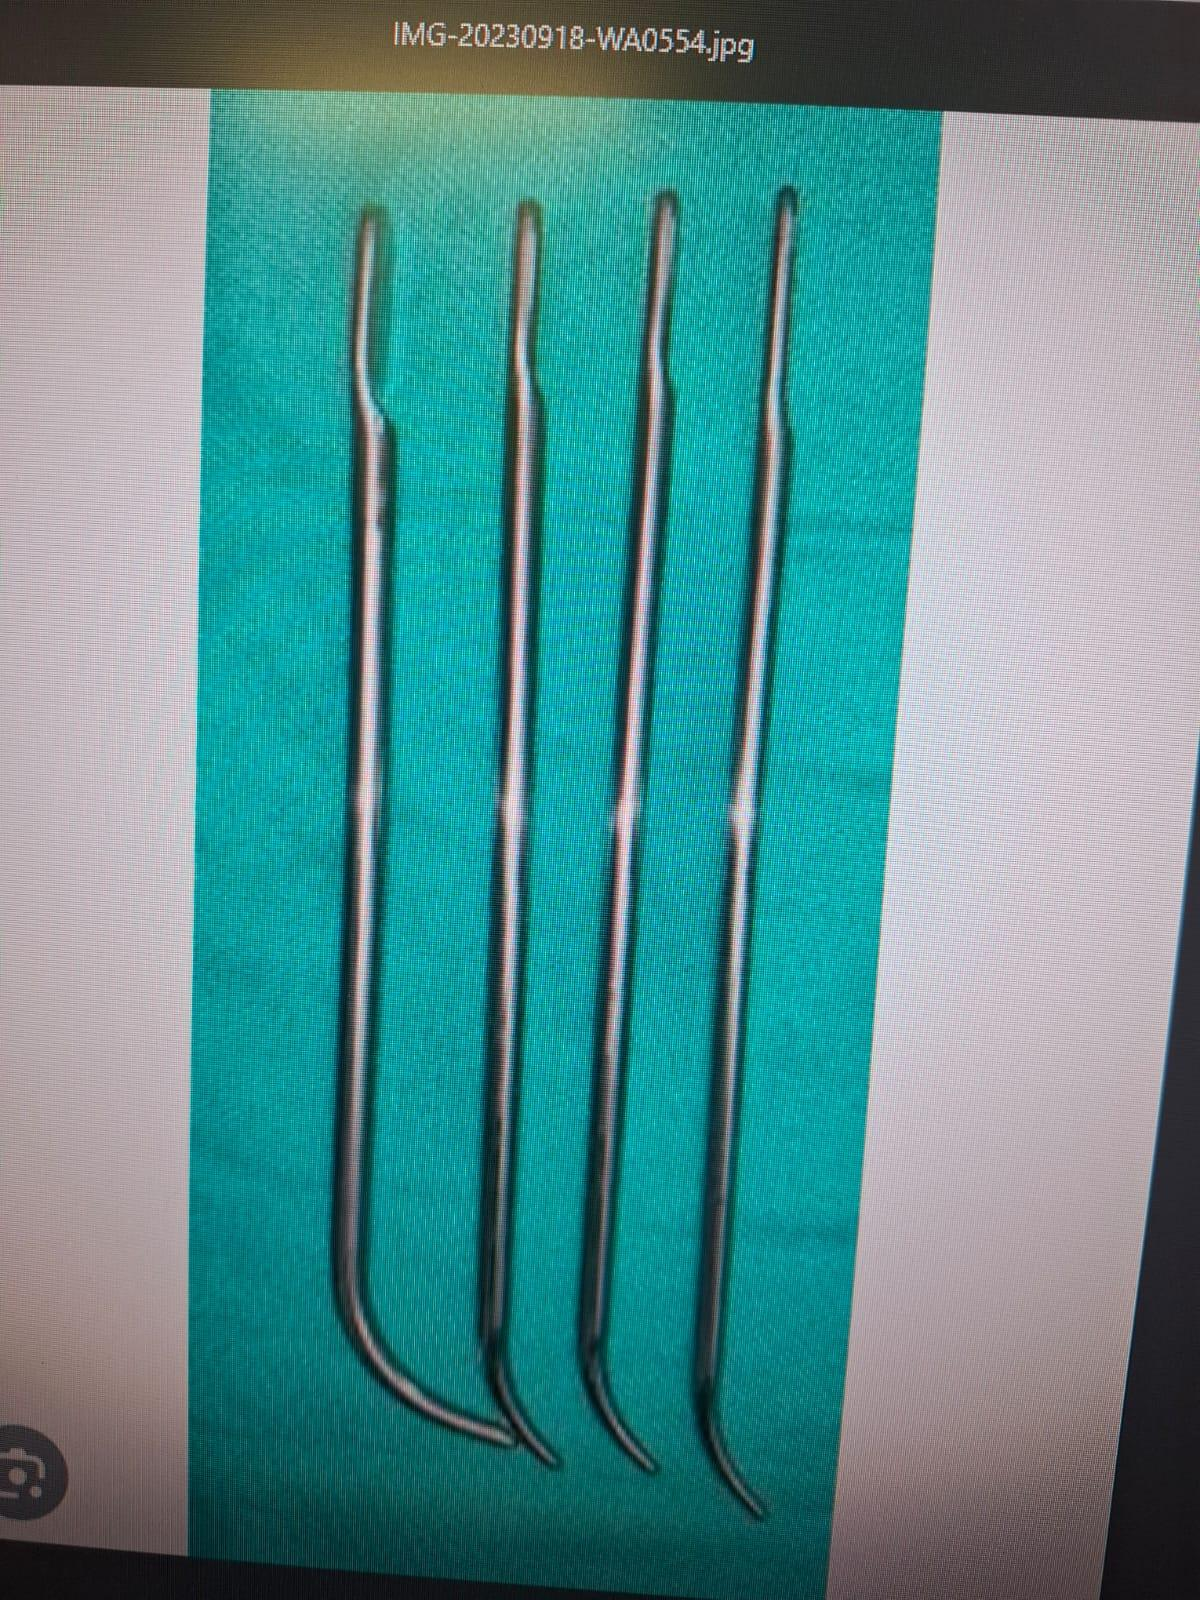Urethral Dilators: (265, 175, 503, 1473), (532, 178, 735, 1473), (420, 168, 592, 1488), (695, 175, 824, 1522)
